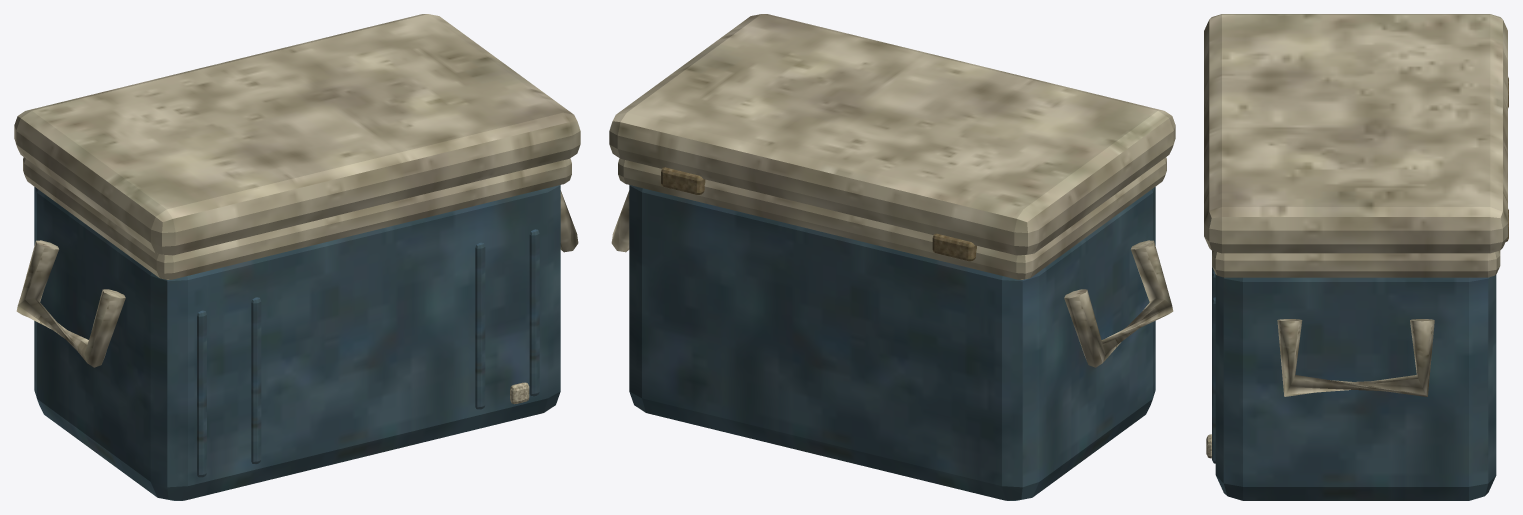
File: by_cooler.glb
The picture shows the model from 3 angles, left to right: view 1: azimuth 30°, elevation 25°; view 2: azimuth 150°, elevation 25°; view 3: azimuth 270°, elevation 25°; orthographic projection.
Parts seen in each view (by area): view 1: by_cooler; view 2: by_cooler; view 3: by_cooler.
Boxes of the visible parts, x1,y1,x2,y2 form: by_cooler: [14, 14, 580, 500]; by_cooler: [609, 14, 1175, 500]; by_cooler: [1204, 14, 1508, 500].
Bounding box in the file's own units: 0.7255 × 0.4275 × 0.391.
Materials: 1 (1 with a texture image).
